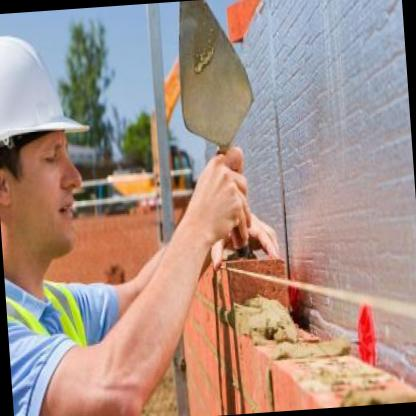helmet: (0, 8, 105, 291)
